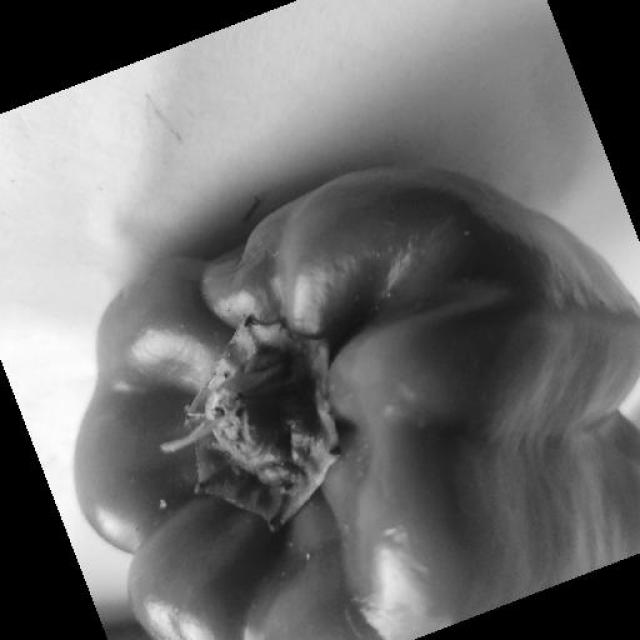Fresh_Capsicum: (120, 183, 615, 640)
